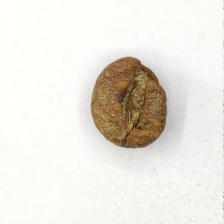NG: (96, 56, 162, 144)
